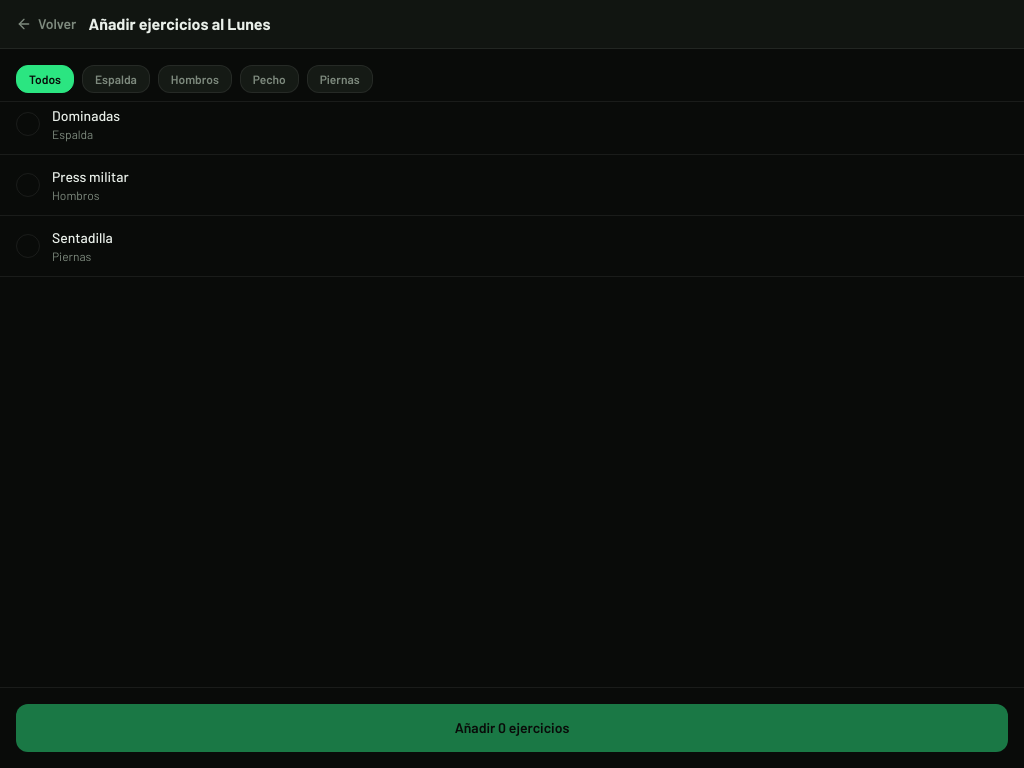
Test: AddExercisesPage › clicking Todos after a filter shows all exercises again
Expected: the text "Press militar" is shown, [52,168,129,185]
Click the button "Hombros": (195, 79) [158,65,232,93]
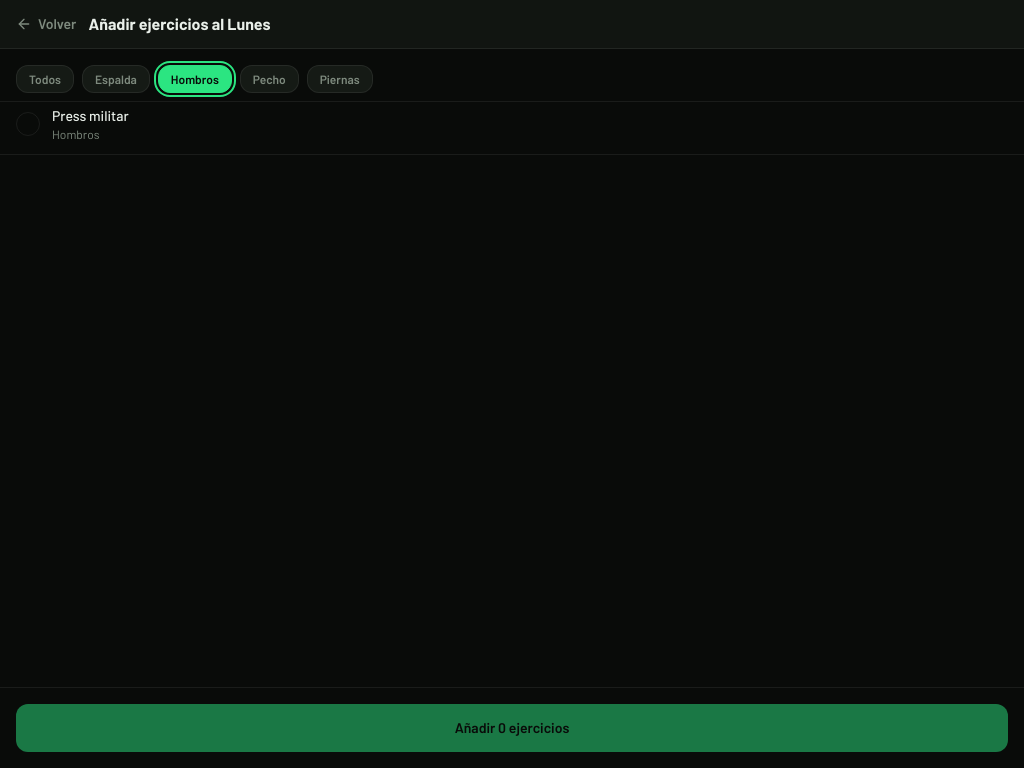
Now the checkbox "Dominadas" is gone
Click the button "Todos": (45, 79) [16,65,74,93]
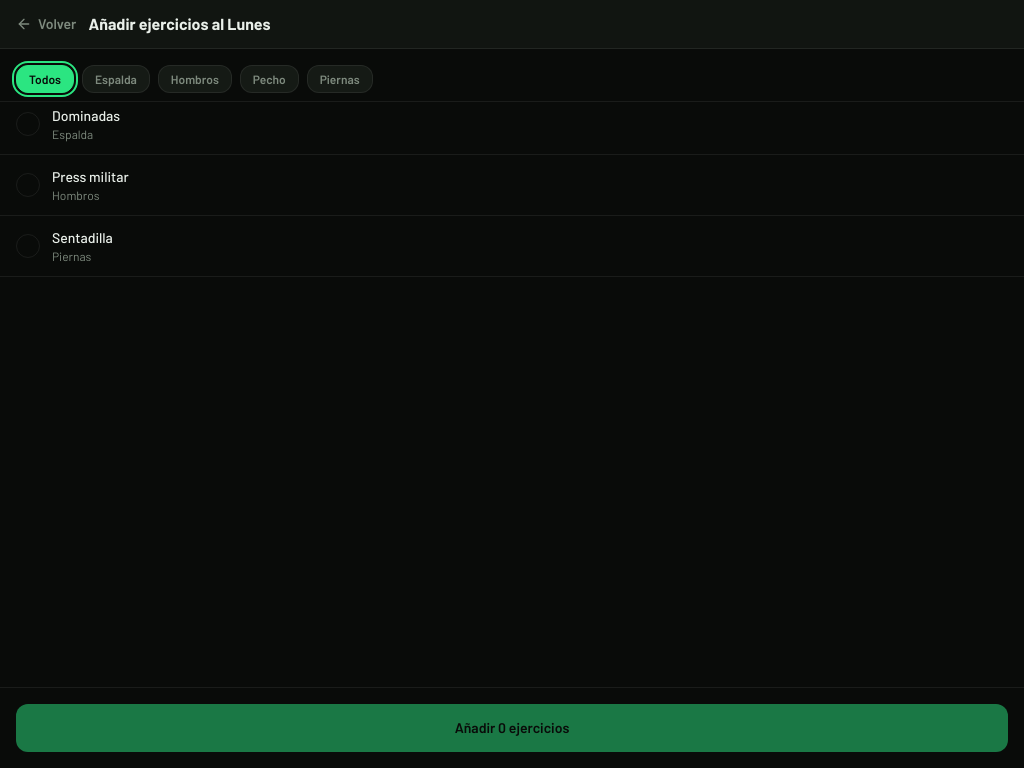
Now the text "Dominadas" is shown, box [52,107,120,124]
